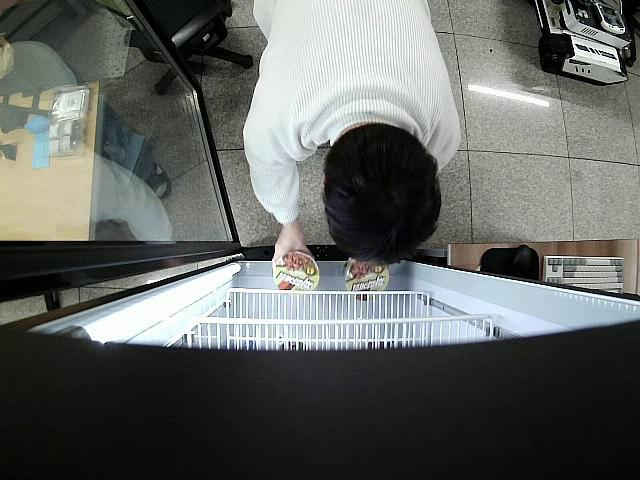00_hand: (271, 234, 317, 271)
03_chapagetti_L: (272, 251, 319, 297), (343, 261, 391, 301)
